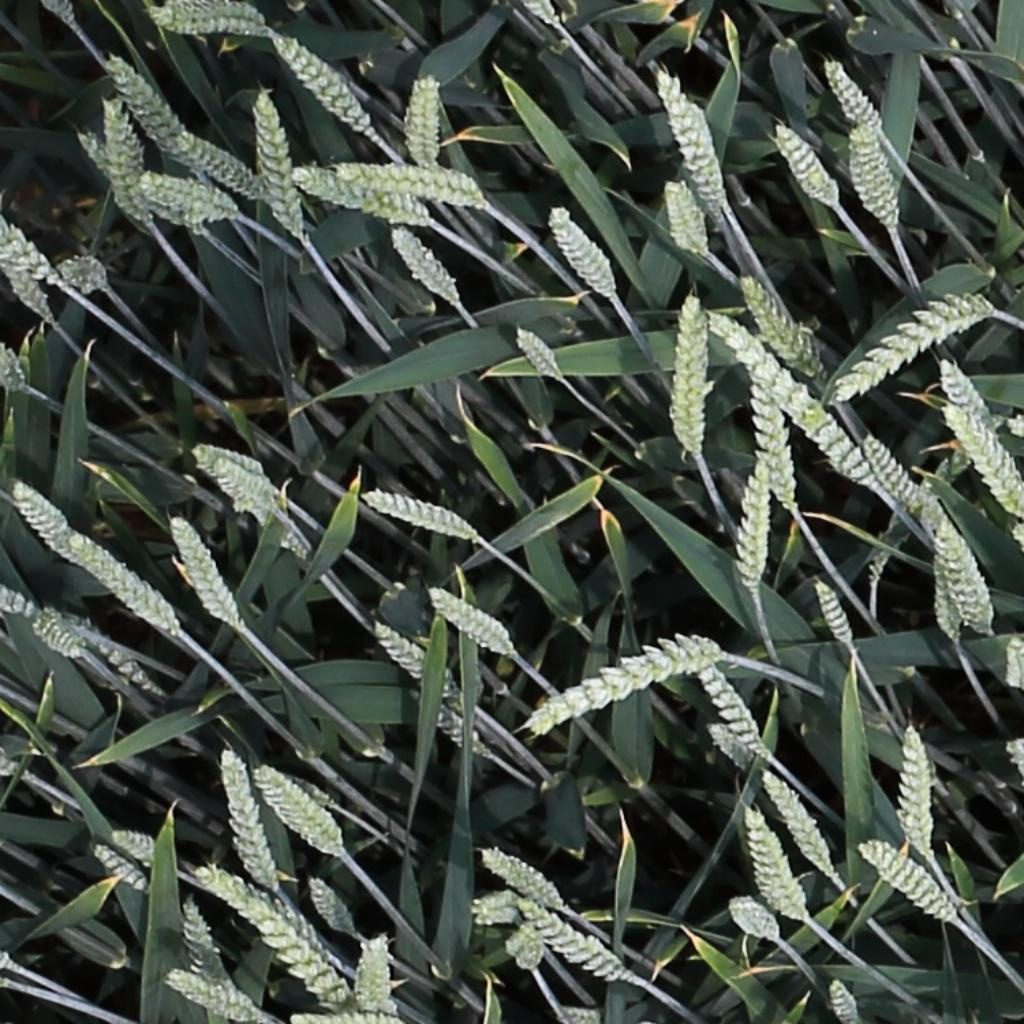0-0: (222, 875, 344, 1003), (52, 520, 177, 637), (767, 372, 879, 487), (73, 129, 208, 224), (264, 28, 374, 141), (193, 868, 322, 961), (701, 303, 798, 423), (651, 69, 727, 212), (942, 400, 1024, 525), (734, 271, 824, 382), (755, 764, 838, 883), (513, 898, 626, 981), (212, 745, 274, 894), (163, 510, 238, 633), (249, 765, 350, 856), (857, 839, 958, 927), (99, 51, 187, 144), (933, 512, 995, 643), (690, 659, 770, 759), (249, 88, 301, 236), (289, 166, 428, 221), (542, 202, 618, 301), (741, 806, 802, 927), (860, 431, 937, 524), (103, 89, 154, 226), (768, 116, 841, 210), (752, 363, 797, 513), (70, 626, 162, 699), (383, 219, 460, 305), (816, 53, 887, 139), (172, 129, 262, 196), (425, 588, 510, 656), (893, 722, 940, 844), (361, 490, 475, 540), (396, 690, 486, 752), (850, 118, 899, 230), (489, 837, 574, 899), (8, 479, 75, 557), (163, 972, 263, 1024), (0, 219, 69, 293), (174, 894, 226, 991), (935, 354, 996, 435), (335, 165, 480, 199), (675, 296, 703, 458), (0, 241, 55, 323), (135, 174, 237, 217), (299, 873, 357, 944), (349, 924, 399, 1006), (662, 172, 708, 260), (365, 618, 427, 682), (401, 75, 442, 170), (808, 574, 857, 653), (147, 0, 266, 32), (509, 320, 562, 383), (458, 885, 531, 929), (87, 843, 147, 895), (254, 498, 308, 555), (931, 547, 961, 645), (703, 720, 756, 775), (189, 445, 266, 477), (866, 530, 909, 587), (32, 611, 84, 658), (726, 897, 780, 940), (214, 459, 266, 502), (823, 973, 862, 1024), (502, 921, 543, 968), (0, 574, 38, 622), (0, 338, 30, 397), (105, 830, 155, 862), (53, 258, 105, 288), (1008, 518, 1024, 615), (43, 0, 83, 38), (549, 999, 609, 1024), (1004, 735, 1024, 806), (1008, 415, 1024, 495), (1006, 632, 1024, 700), (525, 0, 563, 31)
